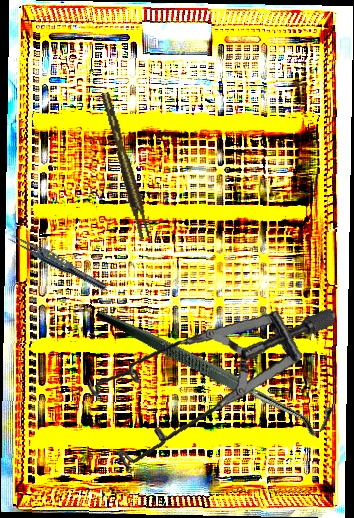Hook Surgical: (94, 233, 341, 500)
Speculum: (78, 279, 336, 497)
Tissue Forceps: (101, 90, 151, 241), (3, 230, 111, 294)
